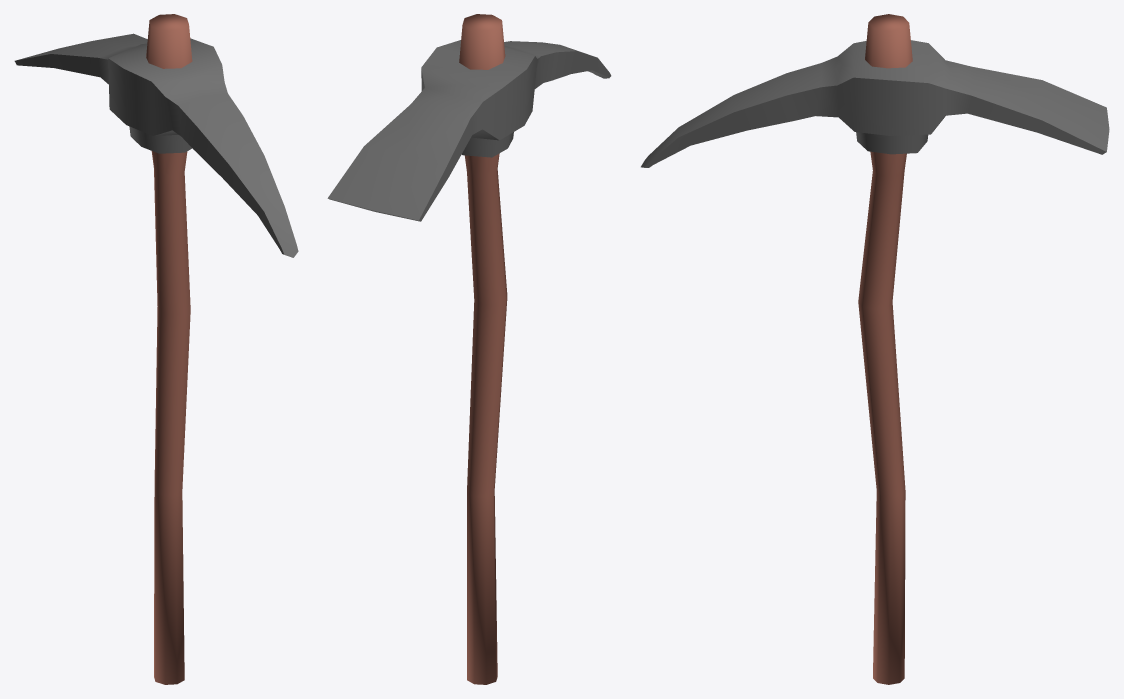
Rendered from Picareta_2.fbx.
3 renders of one model, left to right at view 1: azimuth 30°, elevation 25°; view 2: azimuth 150°, elevation 25°; view 3: azimuth 270°, elevation 25°, orthographic.
Parts seen in each view (by area): view 1: Picareta_2; view 2: Picareta_2; view 3: Picareta_2.
Part boxes in pixels (x1=…): Picareta_2: x1=14, y1=14, x2=298, y2=684; Picareta_2: x1=327, y1=14, x2=611, y2=684; Picareta_2: x1=641, y1=14, x2=1109, y2=684.
Bounding box in the file's own units: 0.5181 × 0.1164 × 0.799.
